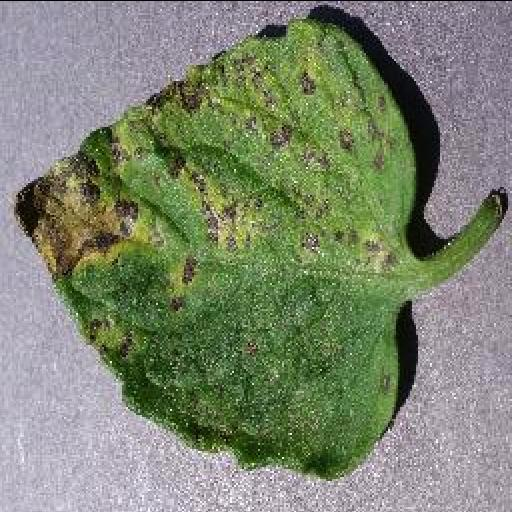disease_tomato: (7, 13, 413, 482)
